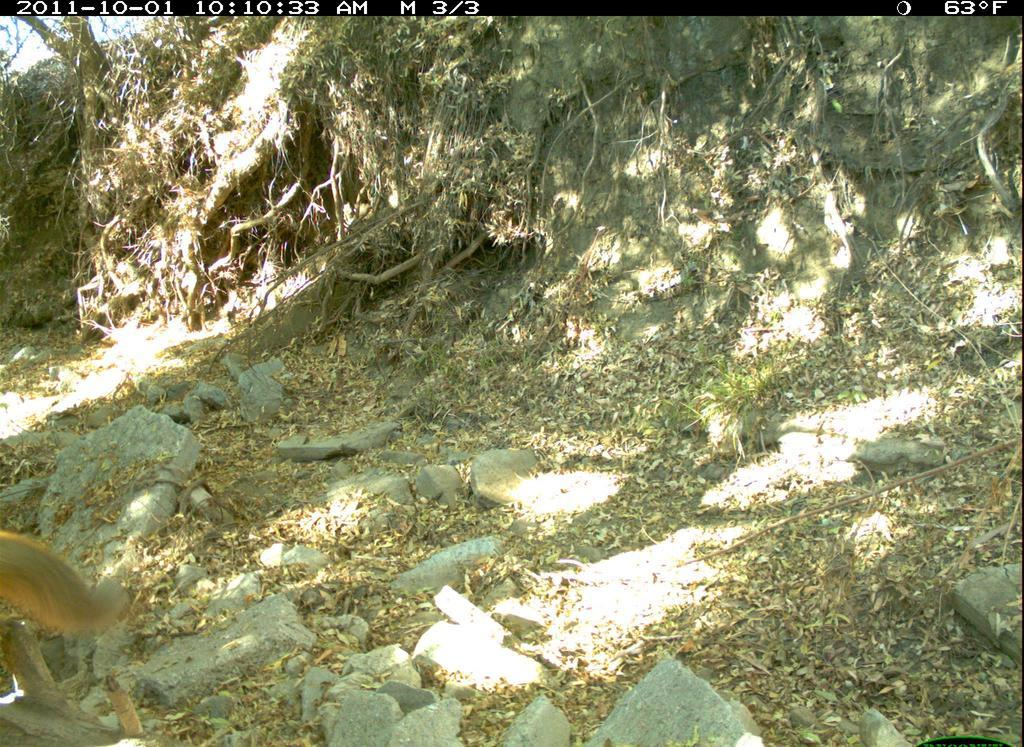squirrel: (1, 524, 120, 679)
